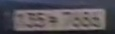135부7686: (15, 10, 103, 29)
